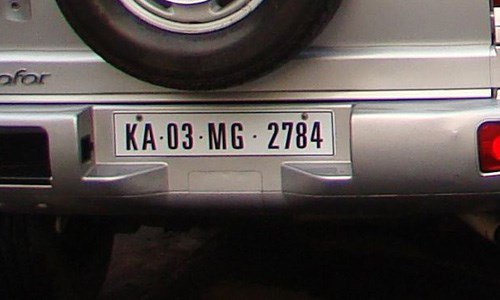number_plate: (111, 110, 338, 160)
